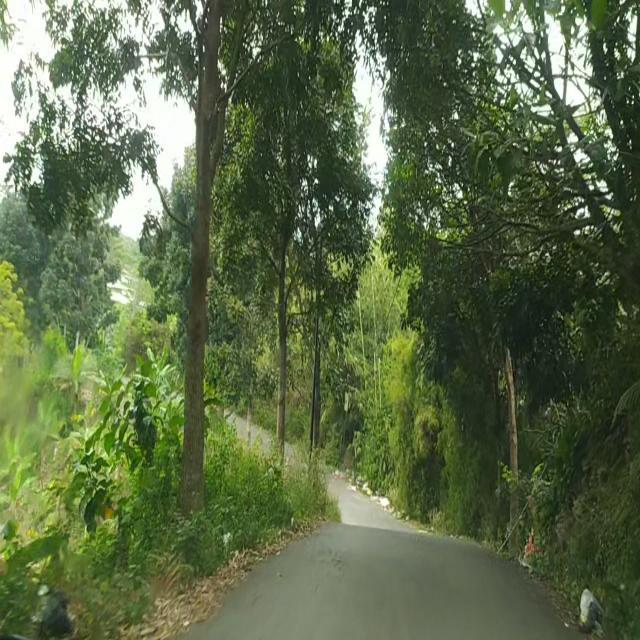Drain Hole: (315, 540, 351, 576)
